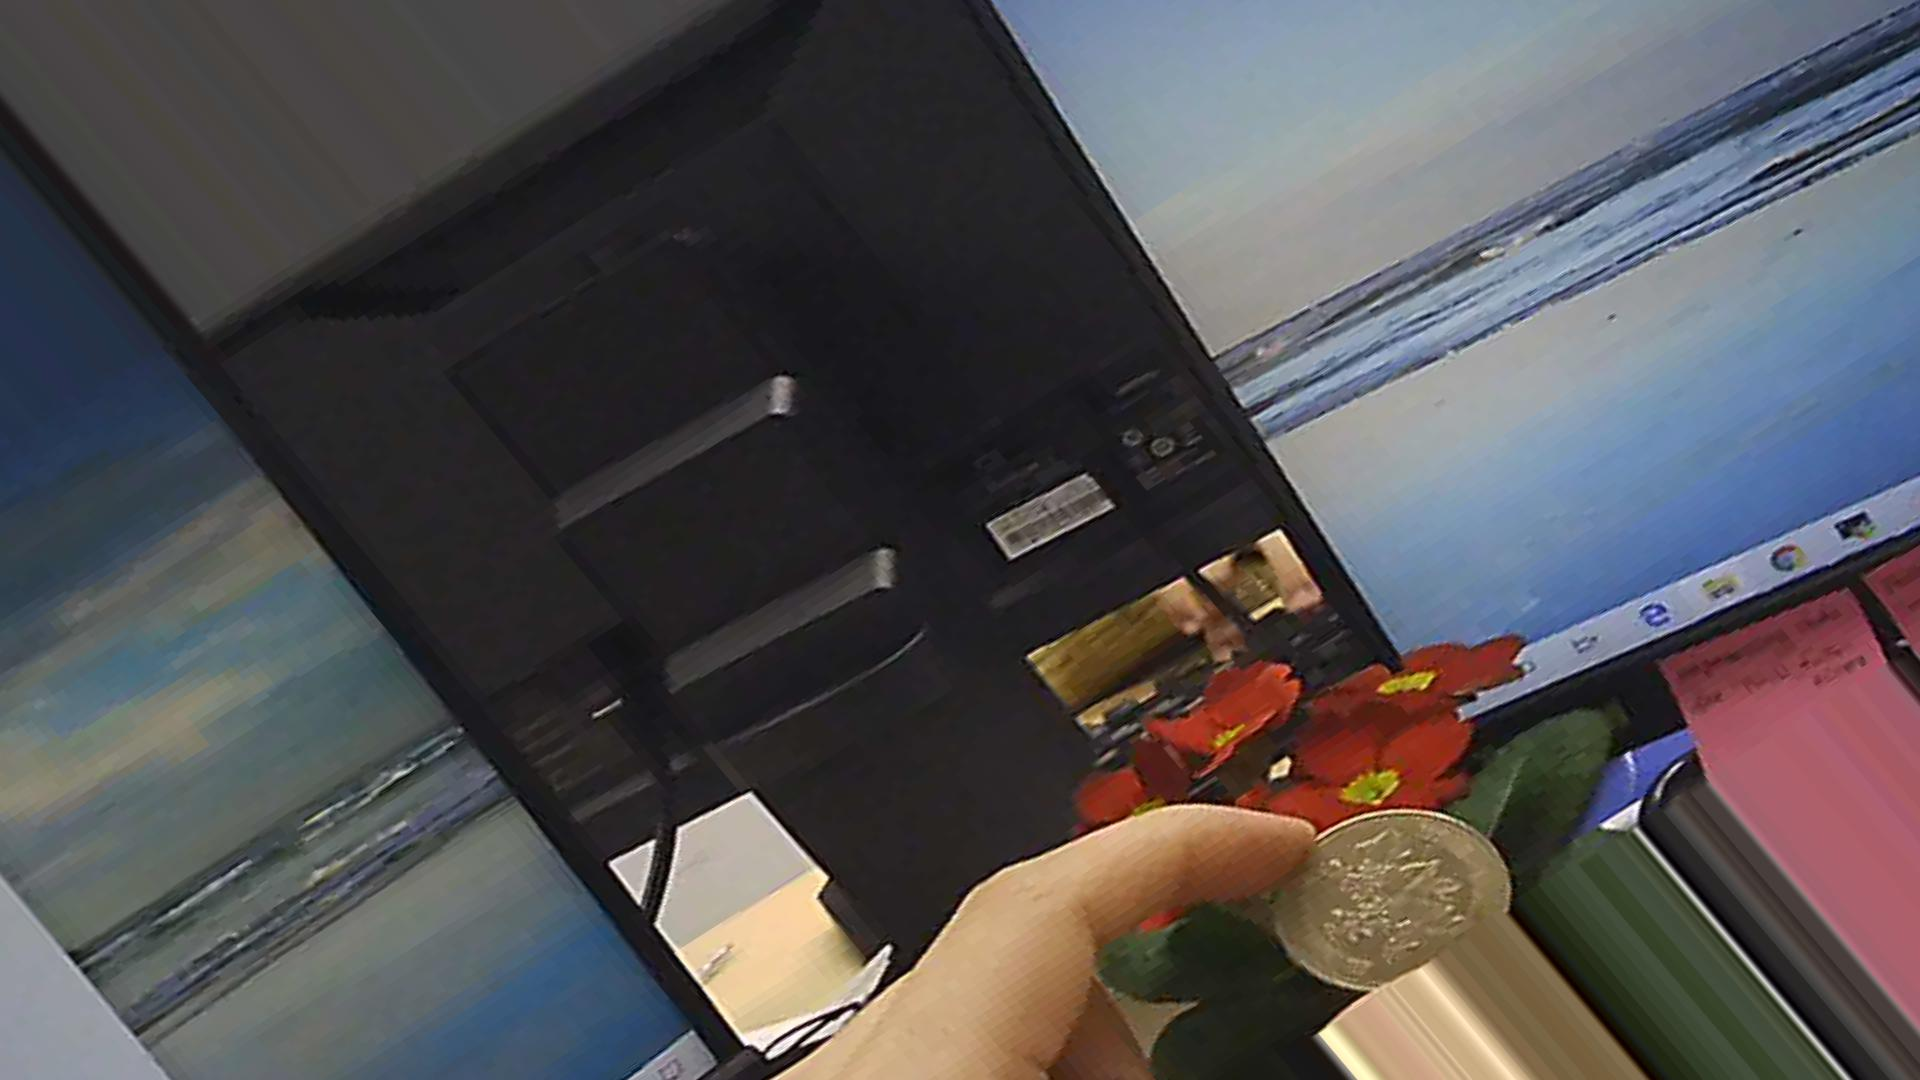500 Yen: (1261, 793, 1505, 982)
